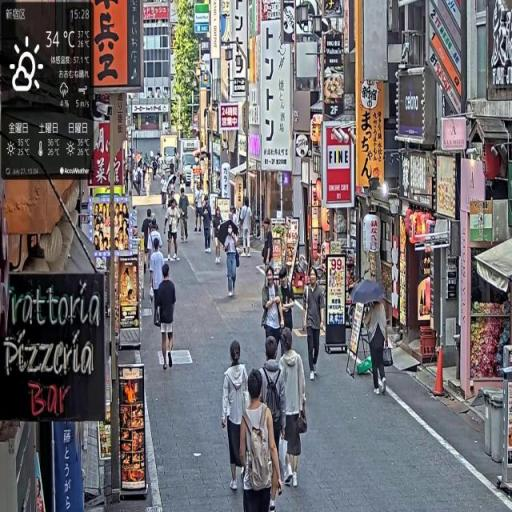person: (240, 369, 285, 512), (279, 331, 310, 493), (221, 341, 251, 495), (303, 266, 326, 381), (155, 263, 178, 373), (262, 266, 285, 362), (367, 306, 389, 397), (150, 239, 167, 331), (223, 224, 242, 299), (279, 268, 296, 340), (166, 198, 183, 263), (239, 199, 254, 258), (202, 197, 214, 255), (179, 189, 190, 243)
